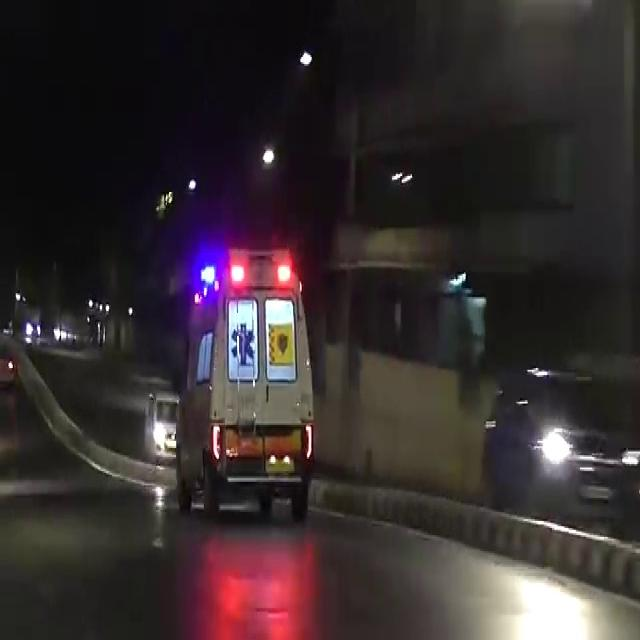ambulance: (179, 234, 316, 501)
